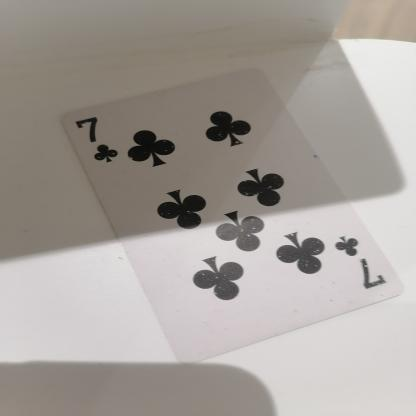7C: (326, 230, 396, 305), (73, 115, 125, 170)
